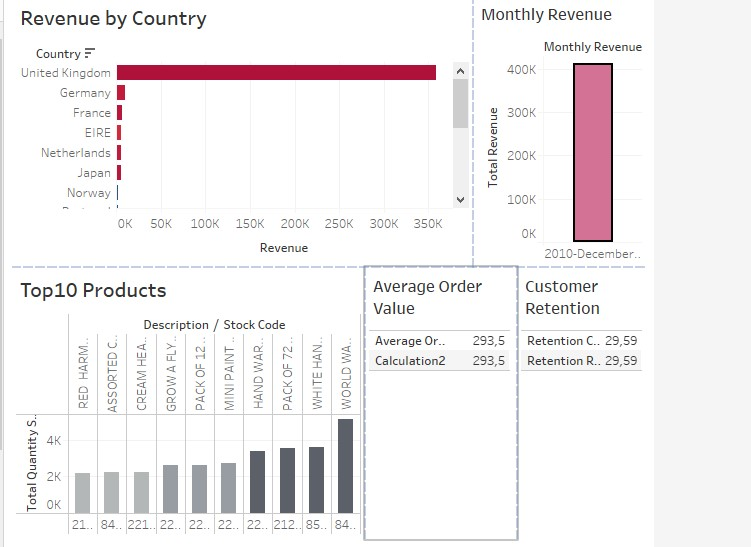

The dashboard page shown, as its layout file describes it:
{"tool":"tableau","page":{"name":"Dashboard 1","canvas":[650,860],"ordinal":0},"visuals":[{"type":"worksheet","title":"Sheet 3","mark":"Automatic","rows":["Country"],"cols":["Revenue"],"box":[8,12.3,461,417.7]},{"type":"worksheet","title":"Sheet 1","mark":"Bar","rows":["TotalRevenue"],"cols":["MonthlyRevenue"],"box":[469,12.3,173,417.7]},{"type":"worksheet","title":"Sheet 2","mark":"Bar","rows":["TotalQuantitySold"],"cols":["Description","StockCode"],"box":[8,430,353,417.7]},{"type":"worksheet","title":"Sheet 5","mark":"Automatic","box":[361,430,152,417.7]},{"type":"worksheet","title":"Sheet 4","mark":"Automatic","box":[513,430,129,417.7]}]}

Visuals, with their boxes on the page's 650x860 design canvas (x1, y1, x2, y2). These are canvas units, not pixel positions in the 751x547 screenshot, which may show the page scaled, cropped or inside an application window:
"Sheet 3" worksheet: x1=8, y1=12, x2=469, y2=430
"Sheet 1" worksheet (Bar marks): x1=469, y1=12, x2=642, y2=430
"Sheet 2" worksheet (Bar marks): x1=8, y1=430, x2=361, y2=848
"Sheet 5" worksheet: x1=361, y1=430, x2=513, y2=848
"Sheet 4" worksheet: x1=513, y1=430, x2=642, y2=848
